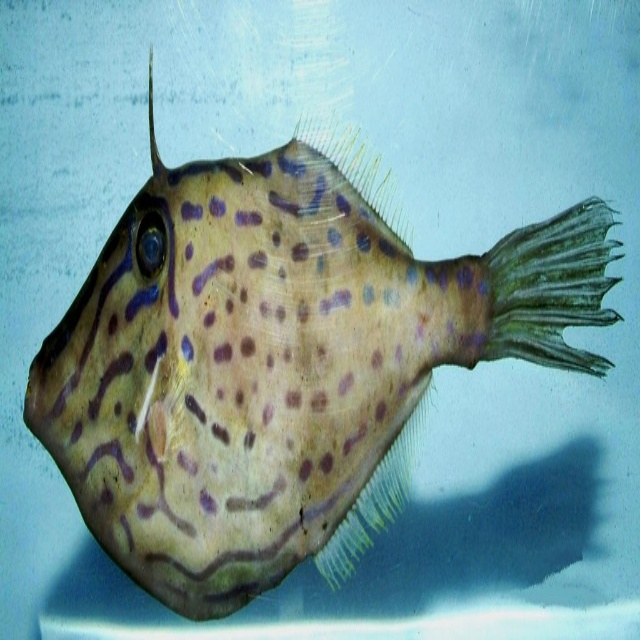Fish: (16, 62, 608, 627)
